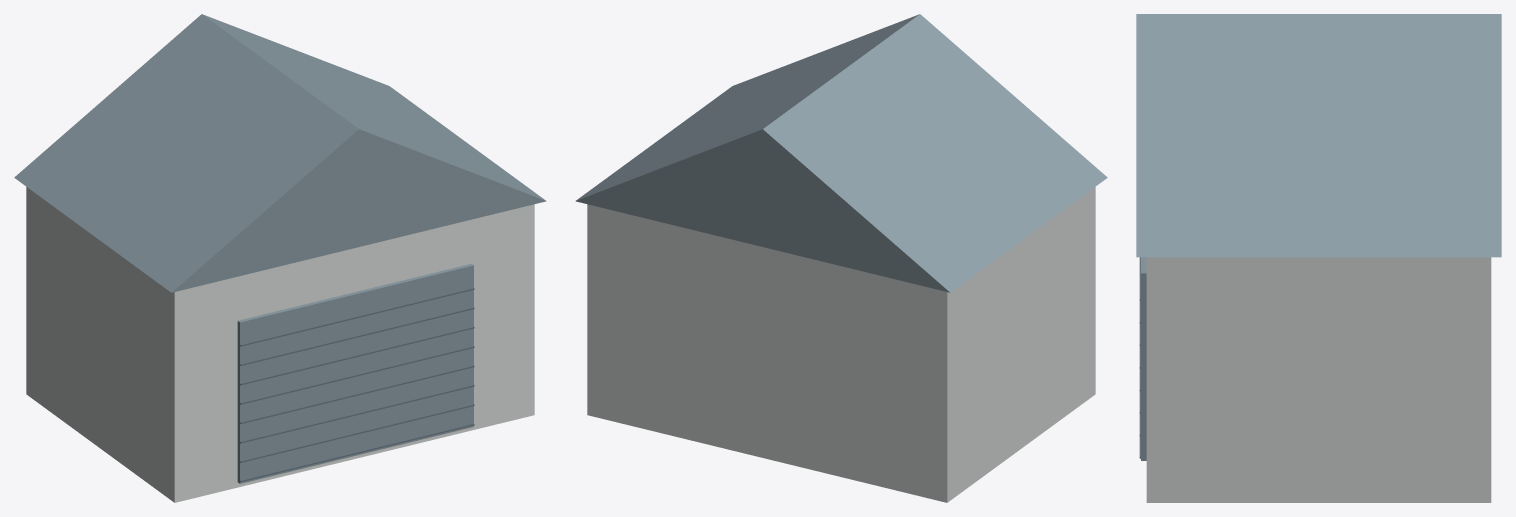
The model's file is warehouse.glb.
The picture shows the model from 3 angles, left to right: view 1: azimuth 30°, elevation 25°; view 2: azimuth 150°, elevation 25°; view 3: azimuth 270°, elevation 25°; orthographic projection. The views are drawn at different scales.
Parts seen in each view (by area): view 1: warehouse_001, warehouse_000, warehouse_002, warehouse_003, warehouse_004, warehouse_005, warehouse_006, warehouse_008, warehouse_007, warehouse_009, warehouse_010; view 2: warehouse_000, warehouse_001; view 3: warehouse_001, warehouse_000, warehouse_002.
Boxes of the visible parts, bbox=[...] form: warehouse_001: bbox=[14, 14, 546, 292]; warehouse_000: bbox=[26, 187, 534, 502]; warehouse_002: bbox=[237, 263, 473, 483]; warehouse_003: bbox=[240, 423, 474, 482]; warehouse_004: bbox=[240, 404, 474, 462]; warehouse_005: bbox=[240, 385, 474, 443]; warehouse_006: bbox=[240, 365, 474, 423]; warehouse_008: bbox=[240, 326, 474, 385]; warehouse_007: bbox=[240, 346, 474, 404]; warehouse_009: bbox=[240, 307, 474, 365]; warehouse_010: bbox=[240, 288, 474, 346]; warehouse_000: bbox=[587, 187, 1095, 502]; warehouse_001: bbox=[575, 14, 1107, 292]; warehouse_001: bbox=[1136, 14, 1501, 257]; warehouse_000: bbox=[1146, 257, 1491, 502]; warehouse_002: bbox=[1141, 257, 1146, 460].
Bounding box in the file's own units: 7.3 × 6.19 × 5.3.
